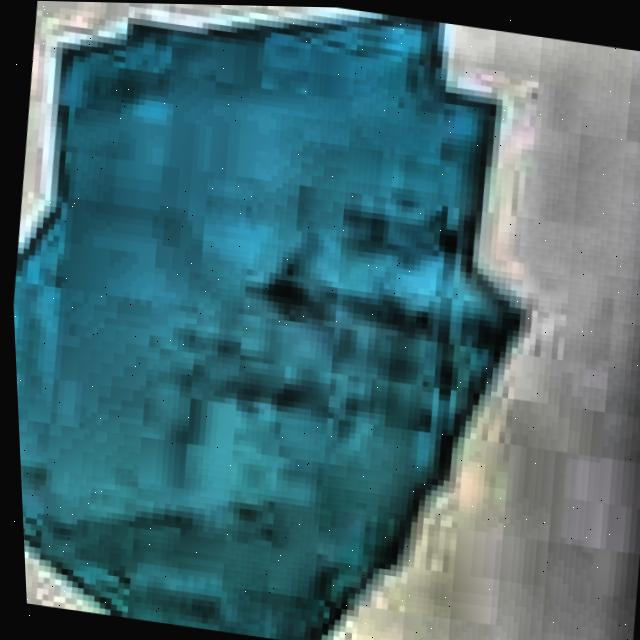paper: (0, 0, 556, 640)
